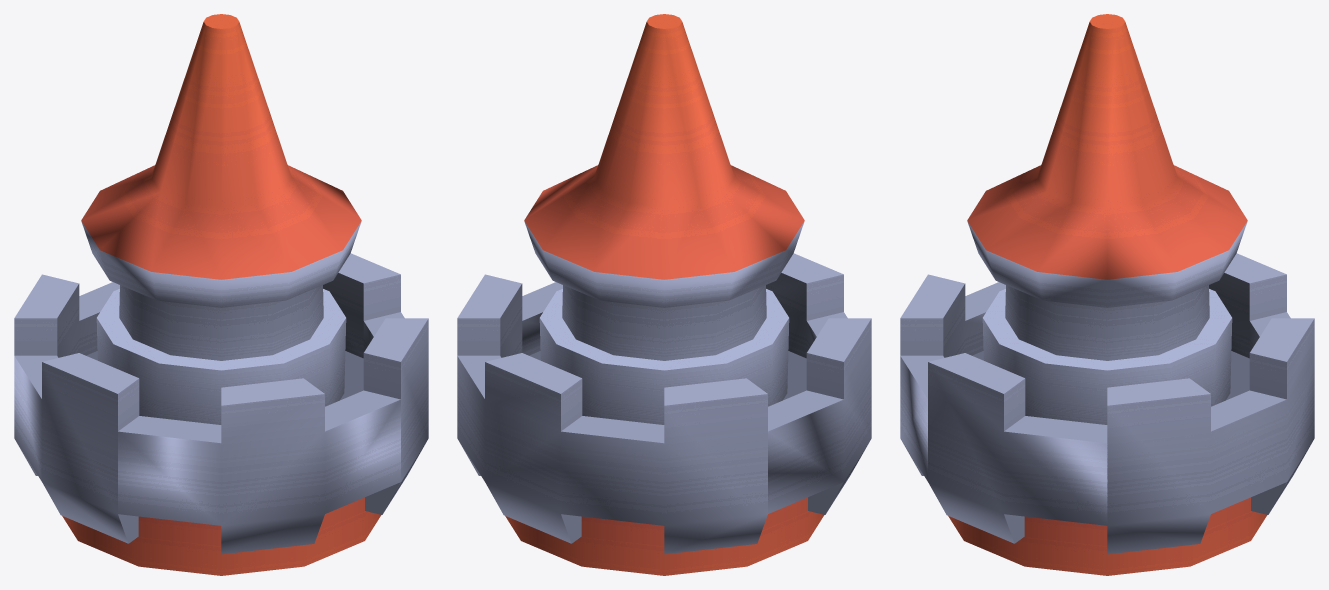
The model's file is tower-round-roof-b.glb.
3 views of the same model, side by side, from view 1: azimuth 30°, elevation 25°; view 2: azimuth 150°, elevation 25°; view 3: azimuth 270°, elevation 25° (orthographic).
Visible parts, largest first — view 1: tower-round-roof-b; view 2: tower-round-roof-b; view 3: tower-round-roof-b.
Part boxes in pixels (left/top/right/bottom): tower-round-roof-b: left=14, top=14, right=428, bottom=575; tower-round-roof-b: left=457, top=14, right=871, bottom=575; tower-round-roof-b: left=900, top=14, right=1314, bottom=575.
Size of the model in its own units: 1 by 1.29 by 1.
1 material, 1 textured.
